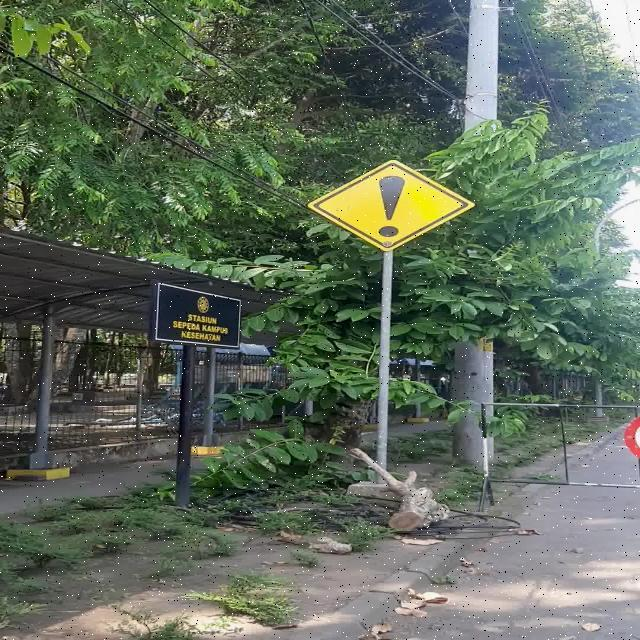Hati-Hati: (307, 160, 474, 252)
